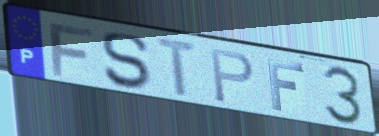3: (319, 64, 364, 128)
F: (47, 21, 96, 78), (265, 57, 307, 114)
P: (209, 47, 257, 105)
S: (99, 31, 151, 91)
T: (153, 35, 202, 100)
